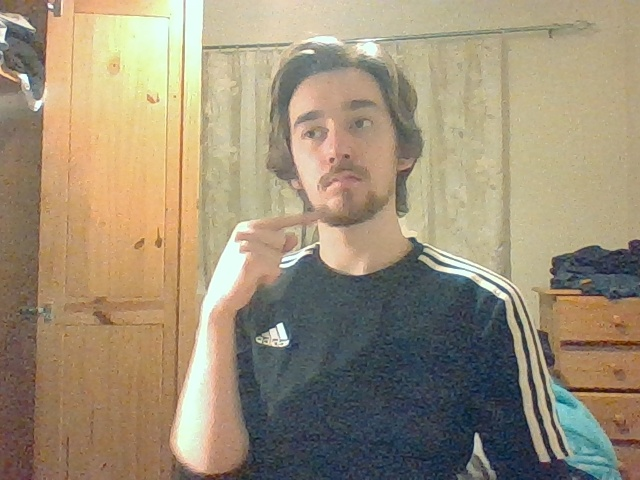son: (230, 208, 324, 283)
